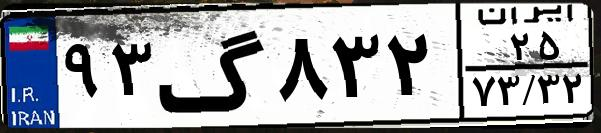2: (385, 28, 445, 110), (560, 70, 590, 125), (508, 27, 537, 80)
3: (330, 28, 385, 110), (110, 28, 156, 98), (495, 70, 520, 125), (535, 70, 560, 125)
5: (537, 27, 568, 80)
7: (470, 70, 495, 125)
8: (270, 28, 330, 110)
9: (57, 26, 110, 100)
گ: (156, 12, 270, 120)
